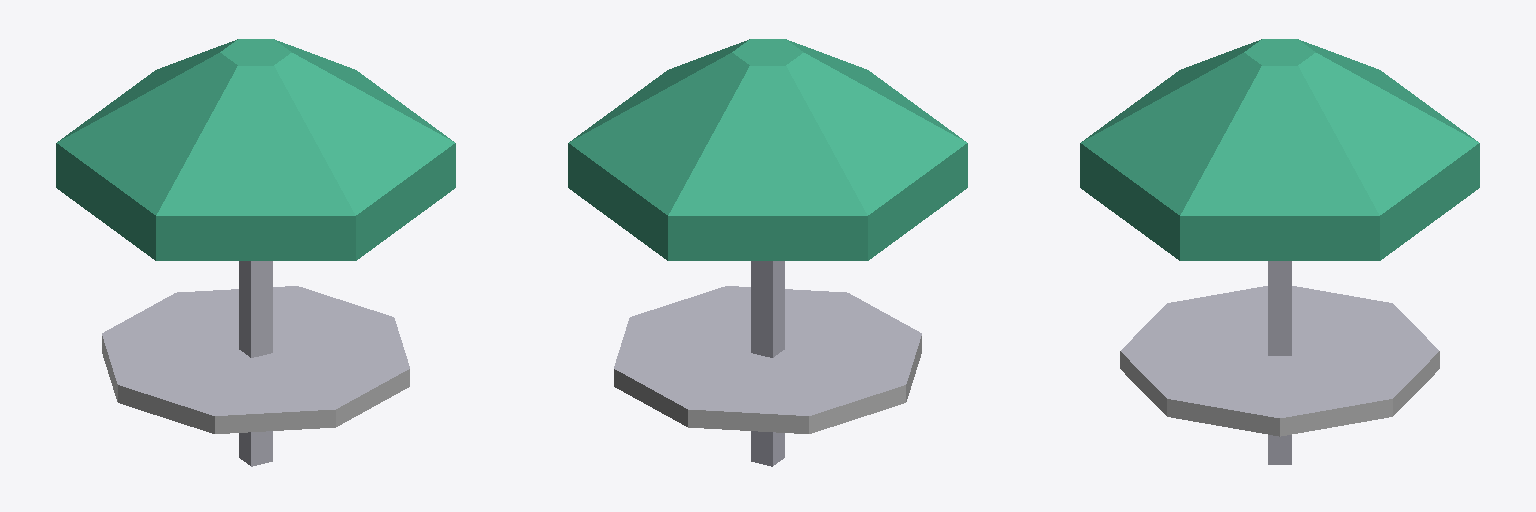
The model's file is detail_umbrella.obj.
3 views of the same model, side by side, from view 1: azimuth 30°, elevation 25°; view 2: azimuth 150°, elevation 25°; view 3: azimuth 270°, elevation 25° (orthographic).
Visible parts, largest first — view 1: detail_umbrella; view 2: detail_umbrella; view 3: detail_umbrella.
Part boxes in pixels (x1,y1,x2,y2): detail_umbrella: (56,39,455,466); detail_umbrella: (568,39,967,466); detail_umbrella: (1080,39,1479,464).
Bounding box in the file's own units: 0.3464 × 0.45 × 0.4.